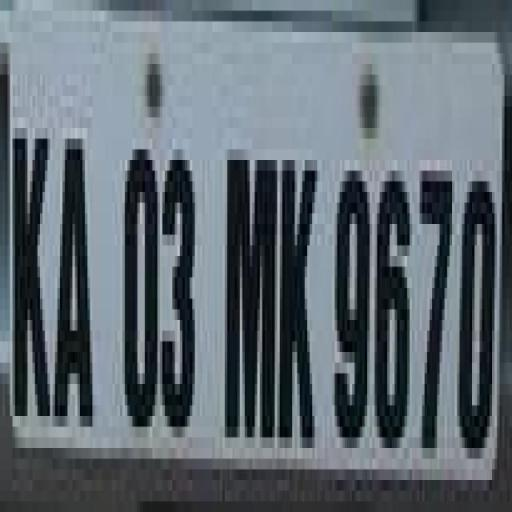number plate: (8, 0, 480, 512)
